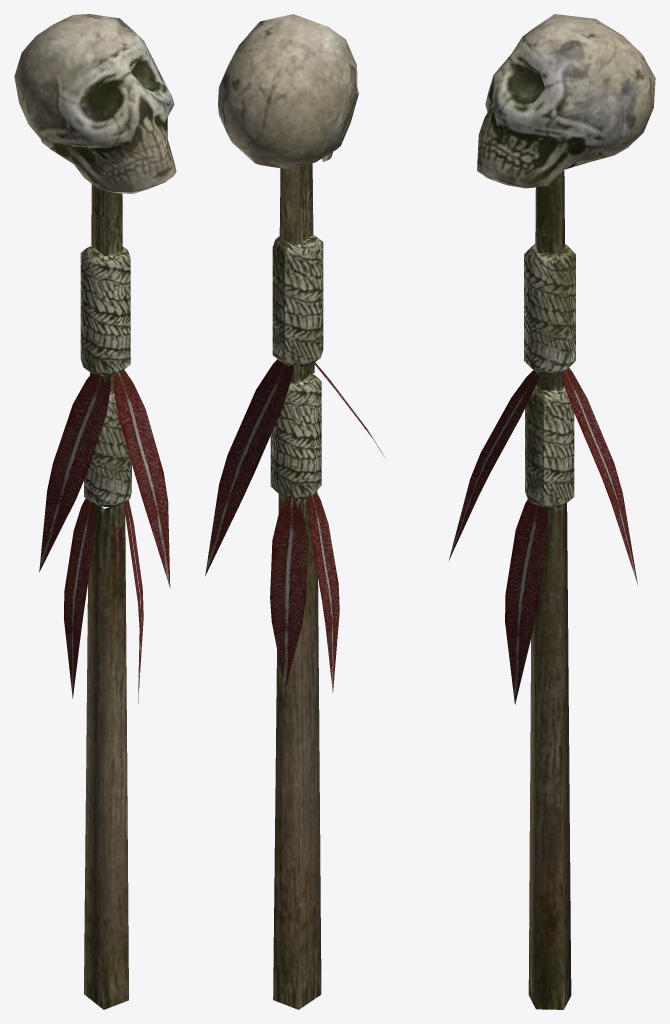
File: PoleSkullsPike_Skull-transformed.glb
3 renders of one model, left to right at view 1: azimuth 30°, elevation 25°; view 2: azimuth 150°, elevation 25°; view 3: azimuth 270°, elevation 25°, orthographic.
Parts seen in each view (by area): view 1: default; view 2: default; view 3: default.
Part boxes in pixels (x1,y1,x2,y2): default: (14, 14, 176, 1009); default: (205, 14, 384, 1009); default: (448, 14, 655, 1009).
Bounding box in the file's own units: 0.3492 × 2.18 × 0.4192.
Materials: 1 (1 with a texture image).
